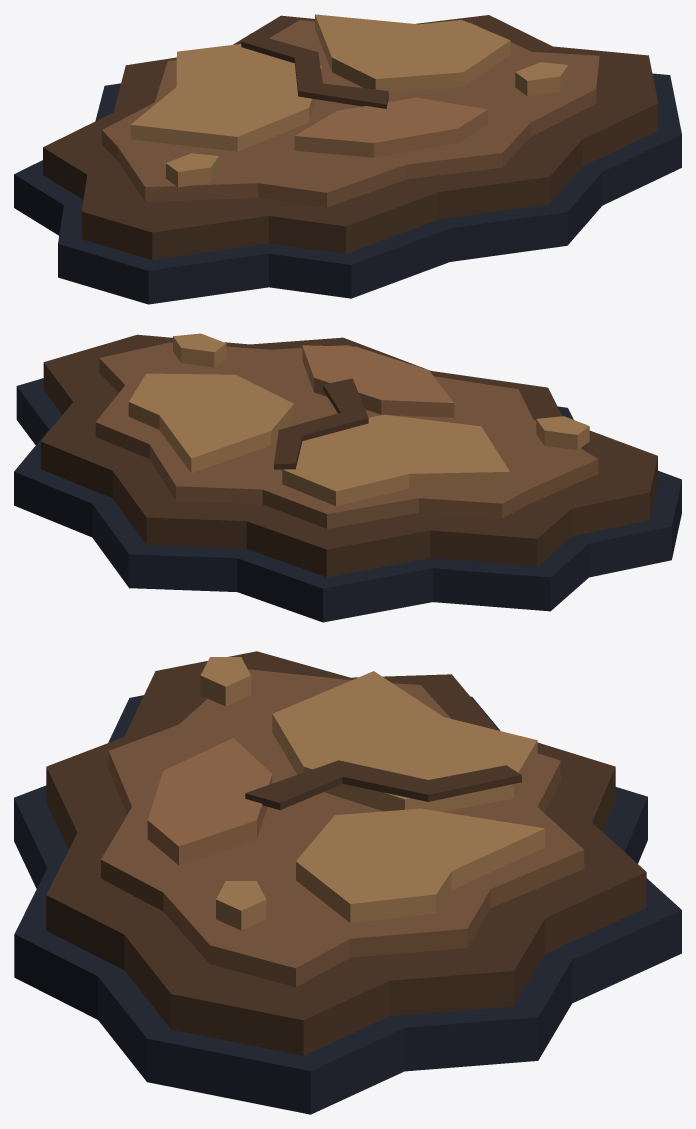
The model's file is ground.fbx.
The picture shows the model from 3 angles, top to bottom: view 1: azimuth 30°, elevation 25°; view 2: azimuth 150°, elevation 25°; view 3: azimuth 270°, elevation 25°; orthographic projection. The views are drawn at different scales.
Parts seen in each view (by area): view 1: ground; view 2: ground; view 3: ground.
Boxes of the visible parts, box(x1,y1,x2,y2) form: ground: box(14, 14, 681, 304); ground: box(14, 333, 681, 622); ground: box(14, 651, 681, 1114).
Bounding box in the file's own units: 1.08 × 0.16 × 0.7649.
Materials: 1 (1 with a texture image).
